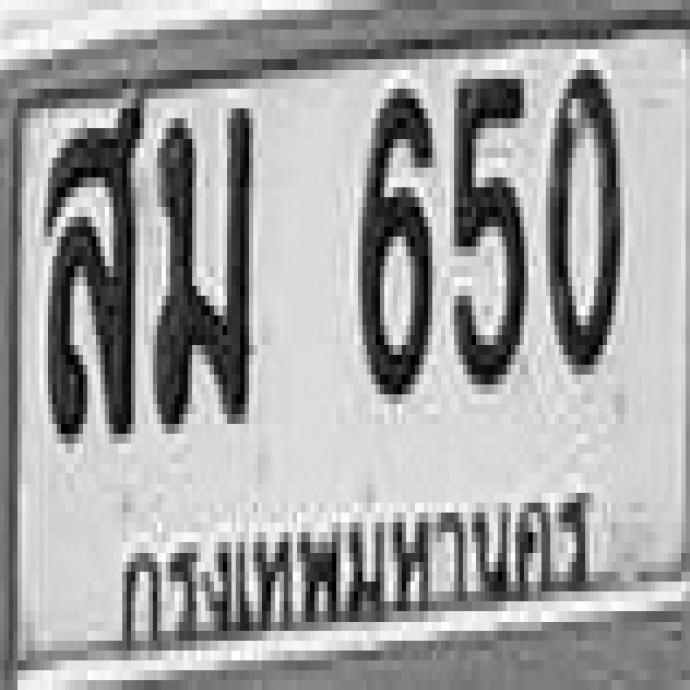0: (544, 58, 617, 366)
5: (450, 69, 522, 379)
6: (355, 80, 429, 391)
A33: (151, 103, 249, 420)
A40: (42, 86, 141, 432)
BKK: (108, 474, 600, 650)
